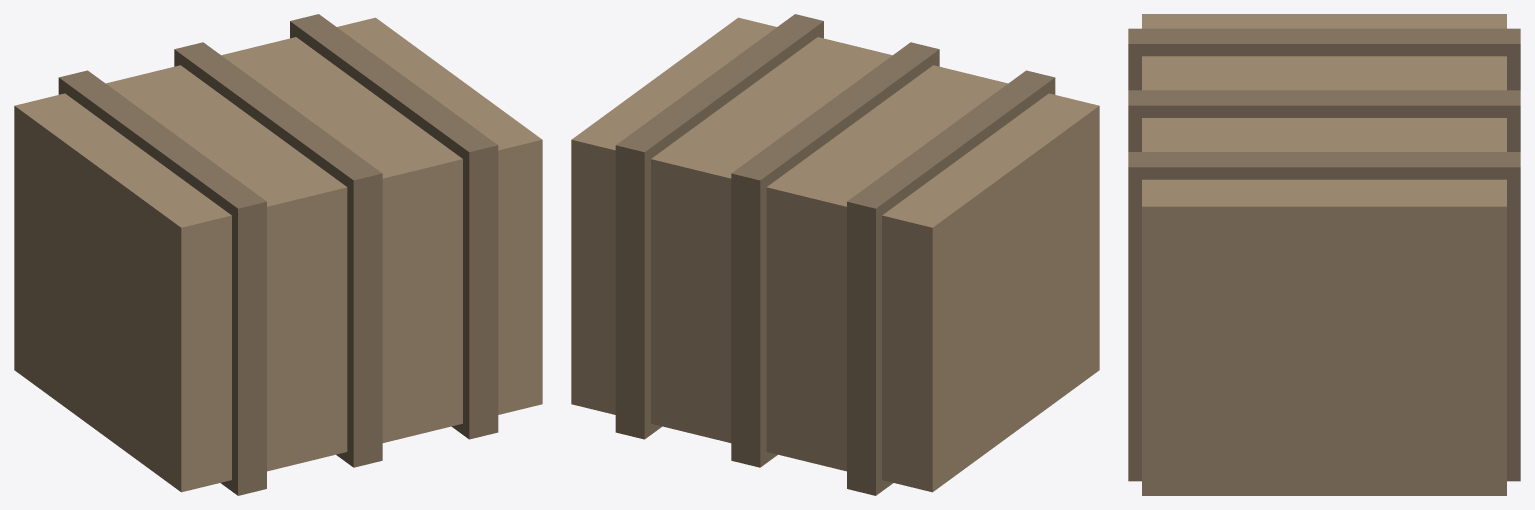
Rendered from bio-crate-high.glb.
3 views of the same model, side by side, from view 1: azimuth 30°, elevation 25°; view 2: azimuth 150°, elevation 25°; view 3: azimuth 270°, elevation 25° (orthographic). The views are drawn at different scales.
Parts seen in each view (by area): view 1: crate-body, strip-1, strip-2, strip-0; view 2: crate-body, strip-1, strip-2, strip-0; view 3: crate-body, strip-2, strip-0, strip-1.
Boxes of the visible parts, x1,y1,x2,y2 form: crate-body: [14, 17, 542, 492]; strip-1: [174, 42, 382, 467]; strip-2: [290, 14, 498, 439]; strip-0: [58, 70, 266, 495]; crate-body: [571, 17, 1099, 492]; strip-1: [731, 42, 939, 467]; strip-2: [615, 14, 823, 439]; strip-0: [847, 70, 1055, 495]; crate-body: [1142, 14, 1506, 495]; strip-2: [1128, 152, 1520, 481]; strip-0: [1128, 28, 1520, 90]; strip-1: [1128, 90, 1520, 151].
Bounding box in the file's own units: 1 × 0.76 × 0.86.
